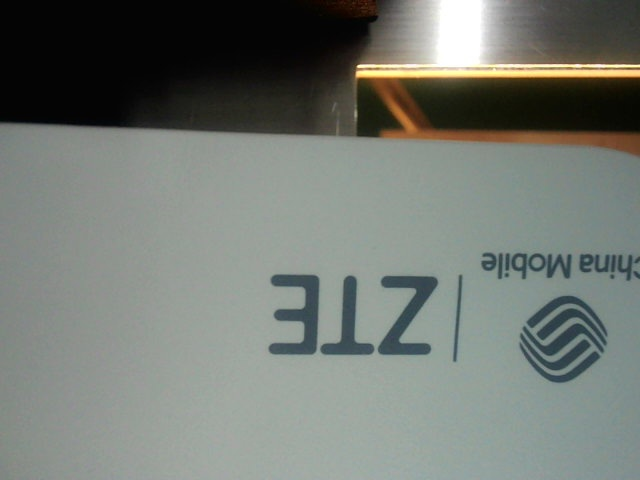AL_ZTEChinaMobile: (261, 236, 639, 378)
